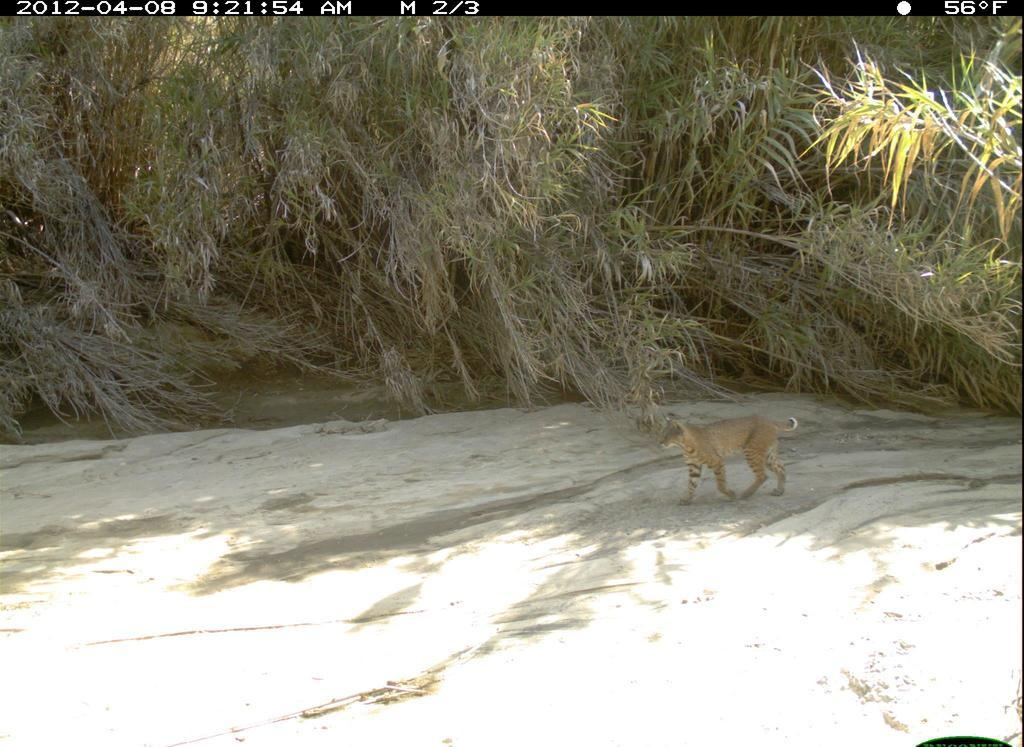bobcat: (637, 386, 831, 515)
